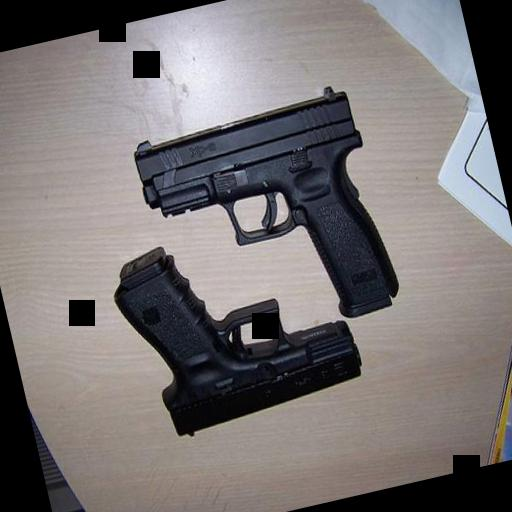Handgun: (125, 82, 407, 358), (101, 204, 368, 444)
